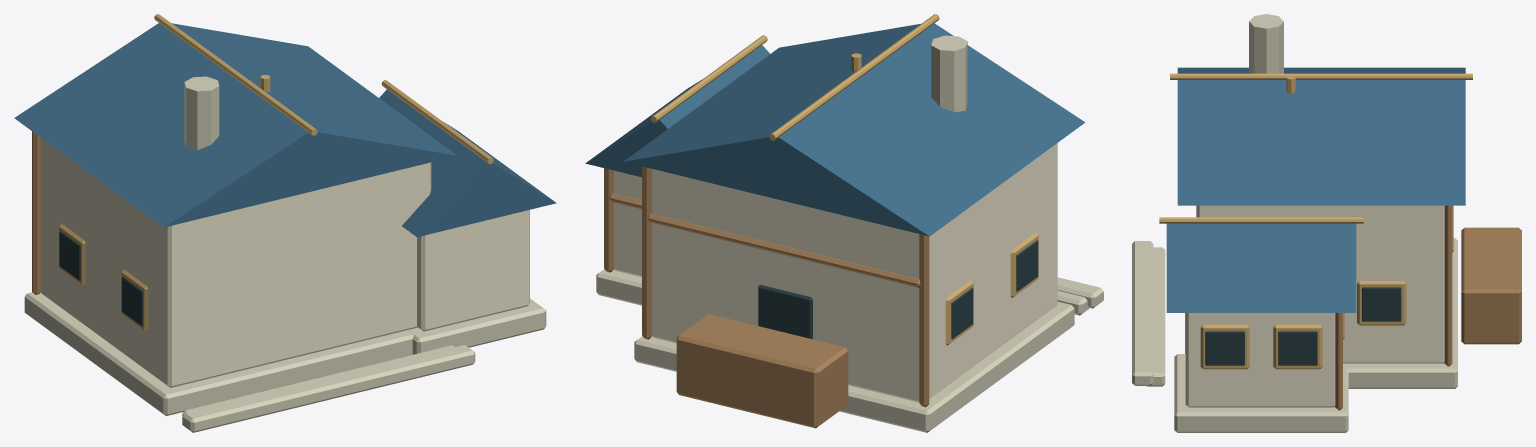
Rendered from level_18.glb.
3 views of the same model, side by side, from view 1: azimuth 30°, elevation 25°; view 2: azimuth 150°, elevation 25°; view 3: azimuth 270°, elevation 25° (orthographic). The views are drawn at different scales.
Visible parts, largest first — view 1: workshop — level 18; view 2: workshop — level 18; view 3: workshop — level 18.
Boxes of the visible parts, x1,y1,x2,y2 form: workshop — level 18: (14, 14, 556, 432); workshop — level 18: (585, 14, 1103, 432); workshop — level 18: (1132, 14, 1521, 432).
Bounding box in the file's own units: 5.68 × 3.97 × 5.14.
